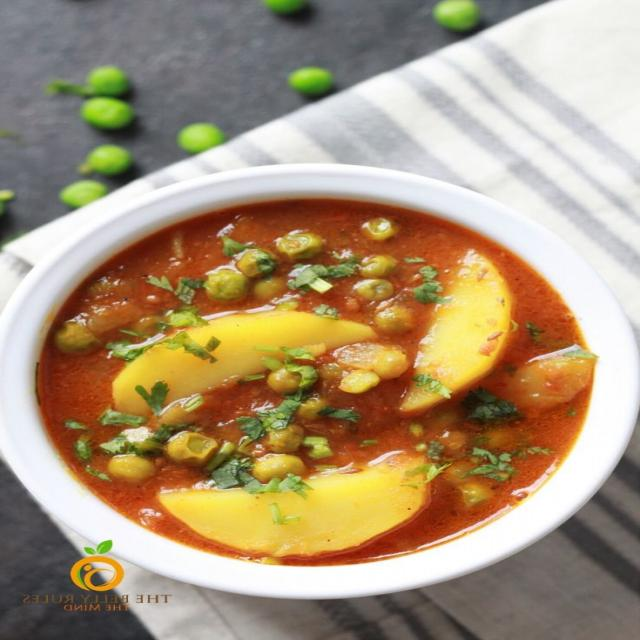Aloo Matar: (28, 203, 581, 566)
